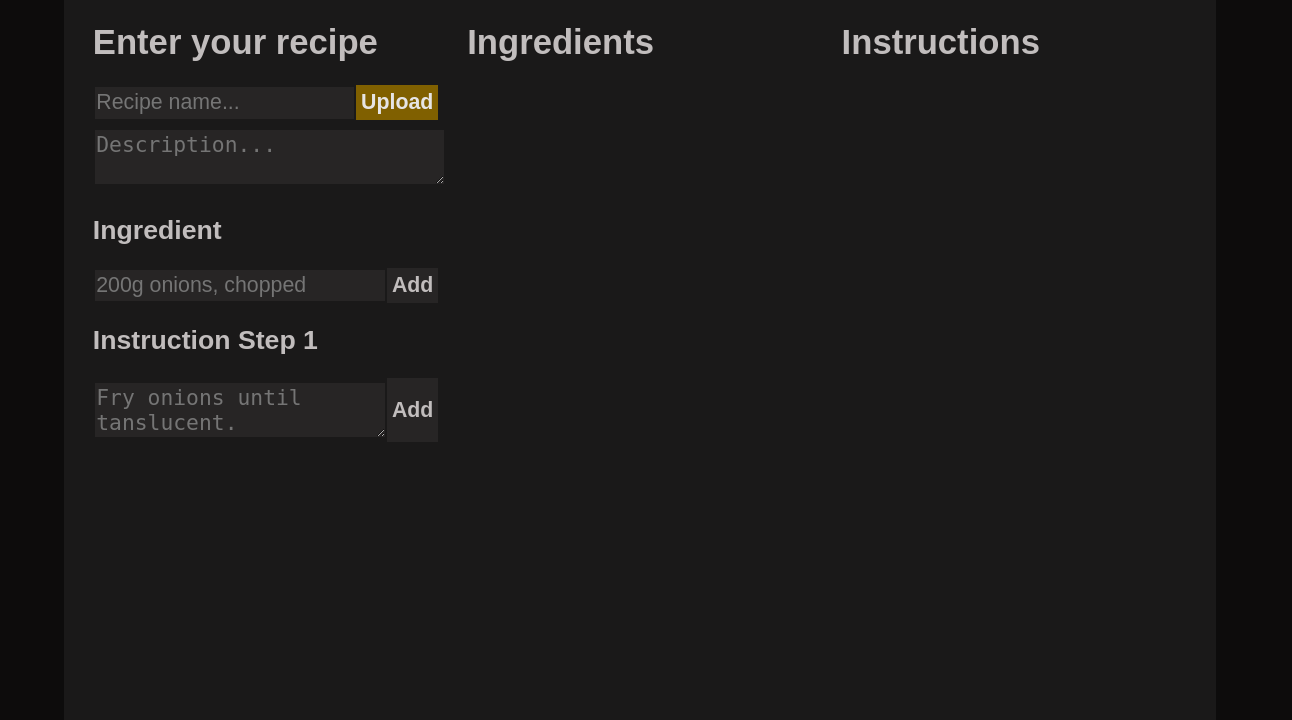
Test: Upload › should add of typed instruction to the DynamicEditList and delete it
This screenshot has width=1292, height=720.
In the text box with test id "currInstruction": coordinates (240, 410) top-left (94, 383), bottom-right (385, 437), type "Fry the egg"
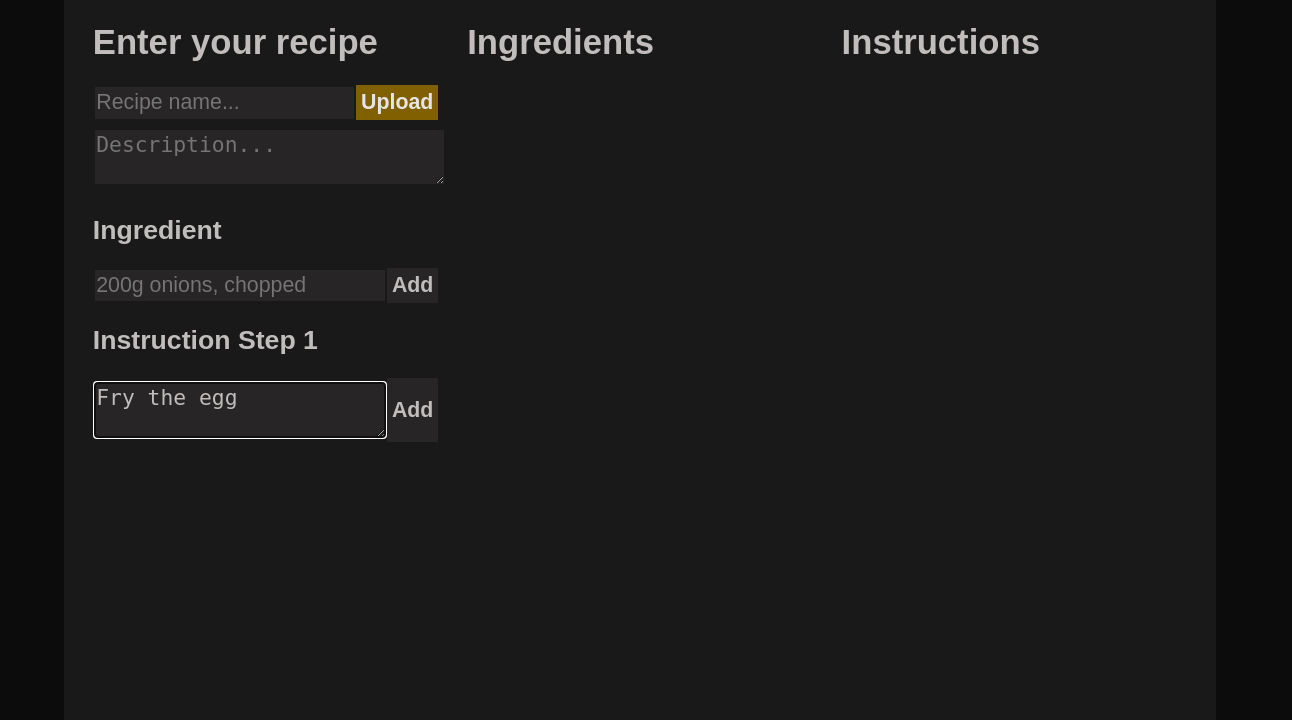
Click the button with test id "addInstruction-btn": coordinates (413, 410) top-left (387, 378), bottom-right (438, 442)
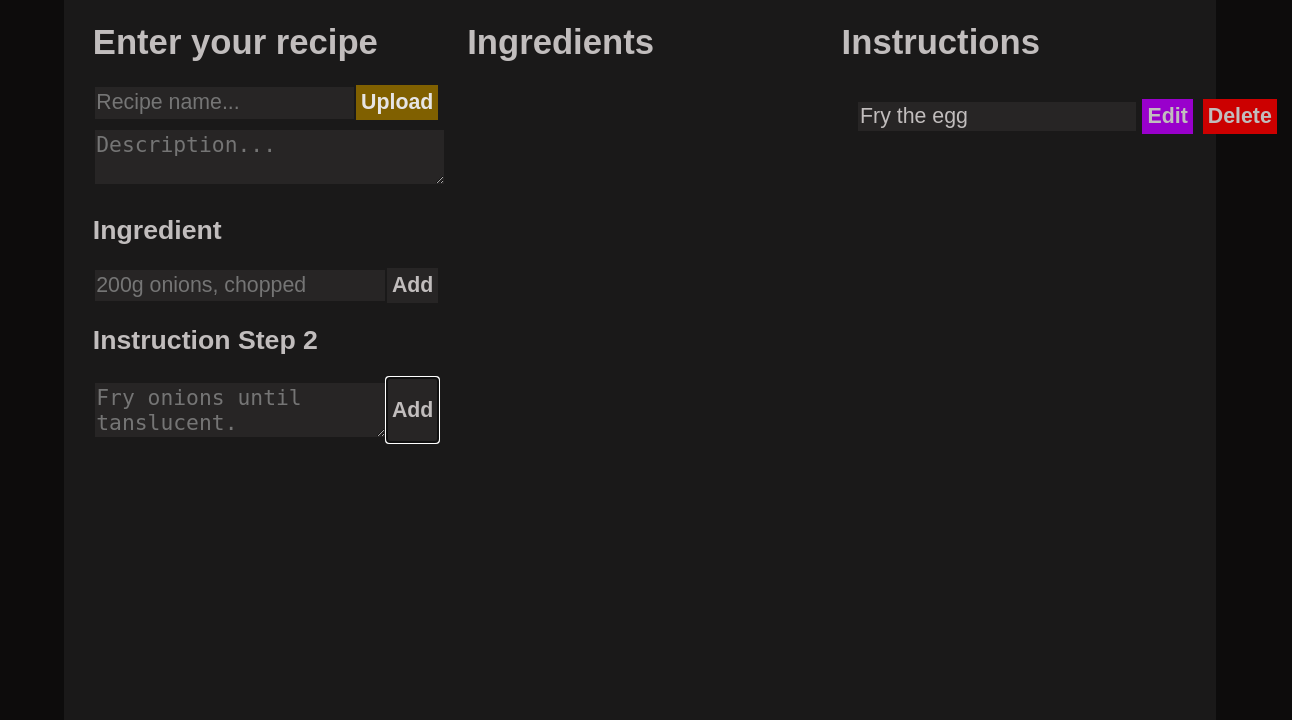
Click the button "Delete": coordinates (1240, 116) top-left (1203, 99), bottom-right (1277, 134)
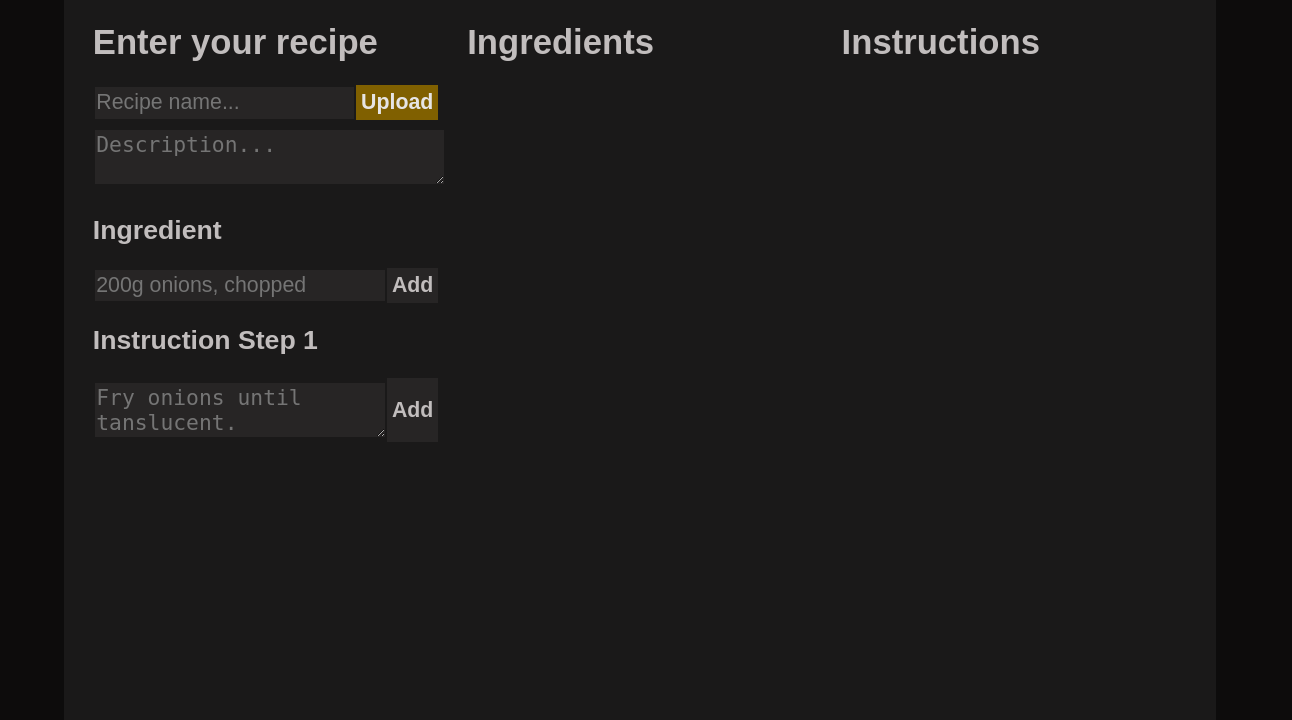
Result: the text box with test id "currInstruction" is empty at top-left (94, 383), bottom-right (385, 437)
Result: the button "Edit" is gone
Result: the button "Delete" is gone
